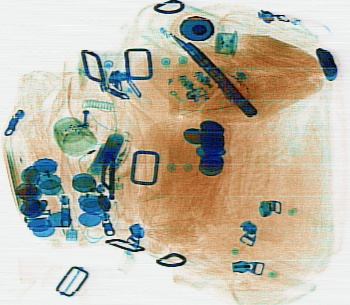lighter: (27, 141, 64, 197)
powerbank: (78, 125, 137, 180)
